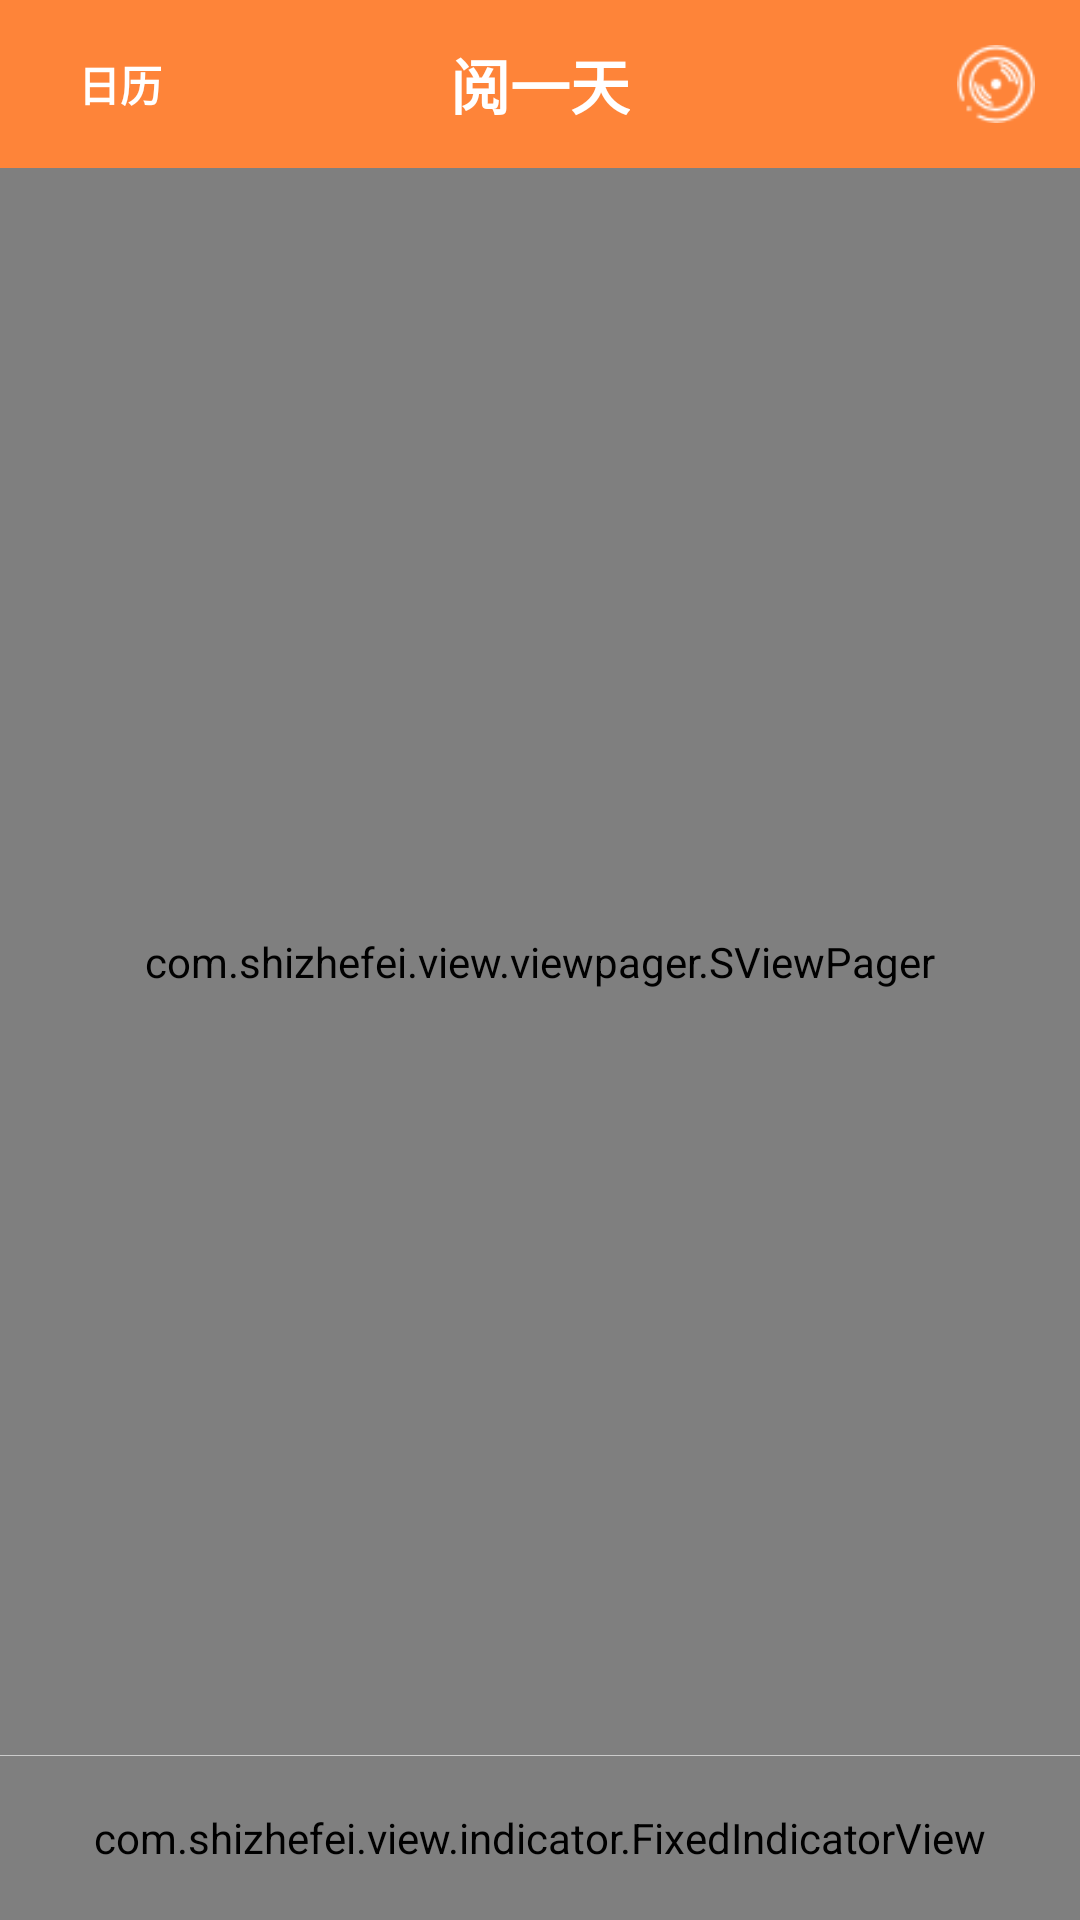

Screen size 1080x1920. Icon name, then its box in pixels as BBox(x1, y1, x2, y2):
audio play: BBox(957, 45, 1035, 123)
